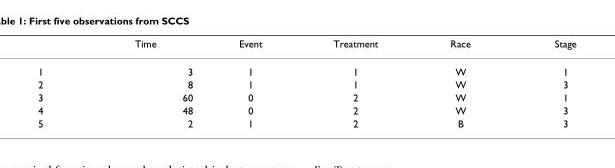table: (37, 37, 575, 128)
table column: (88, 37, 215, 128), (296, 37, 413, 128), (413, 37, 511, 128), (215, 37, 296, 128), (511, 37, 575, 128), (37, 37, 88, 128)
table column header: (37, 37, 575, 57)
table row: (37, 37, 575, 57), (37, 57, 575, 77), (37, 77, 575, 90), (37, 90, 575, 103), (37, 103, 575, 116), (37, 116, 575, 128)
